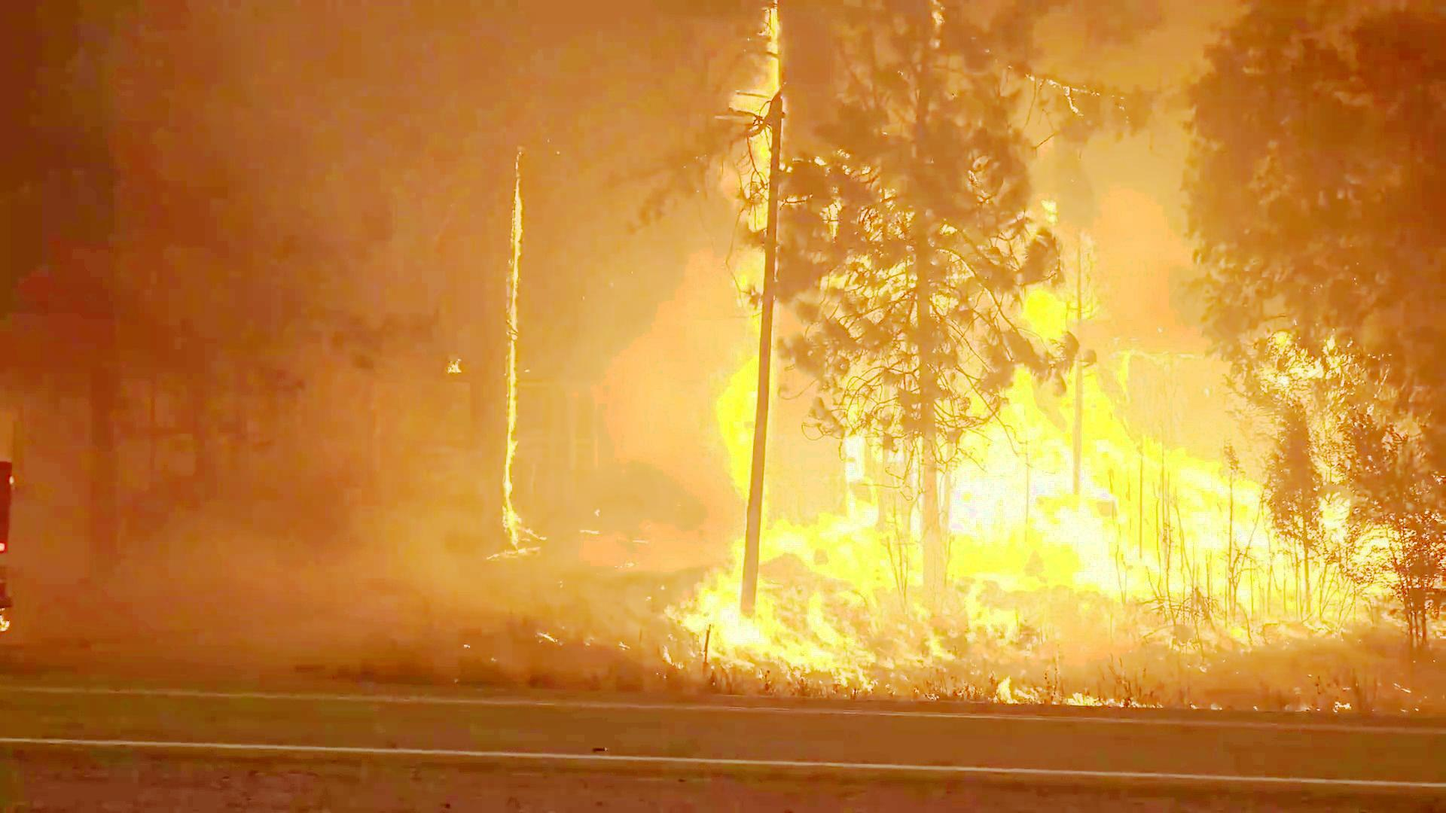fire: (953, 258, 1258, 589), (727, 446, 930, 714)
